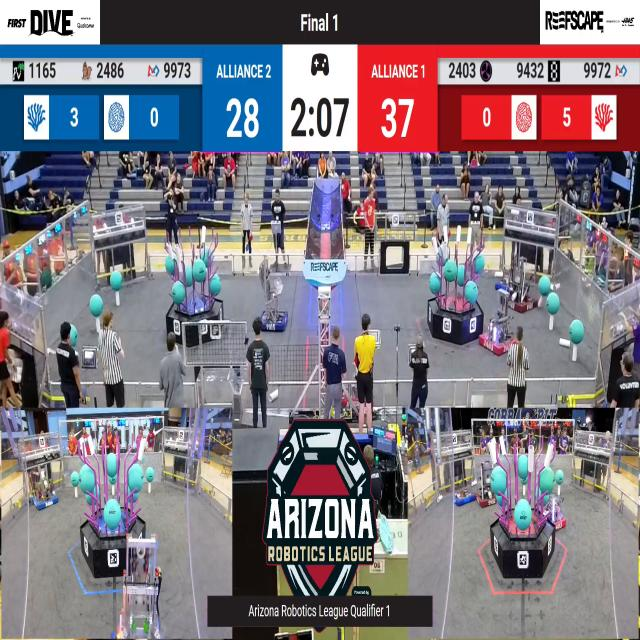scoreboard: (1, 47, 640, 150)
